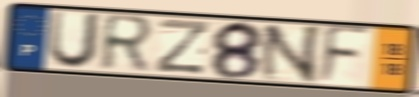8: (209, 19, 266, 82)
F: (316, 23, 374, 87)
N: (257, 24, 326, 85)
R: (97, 12, 158, 75)
U: (45, 9, 105, 72)
Z: (153, 17, 212, 76)
